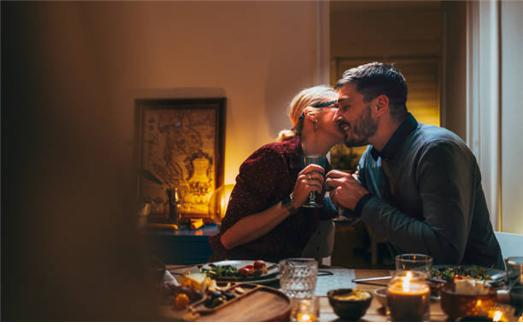alcohol: (385, 250, 428, 323), (304, 154, 325, 211)
